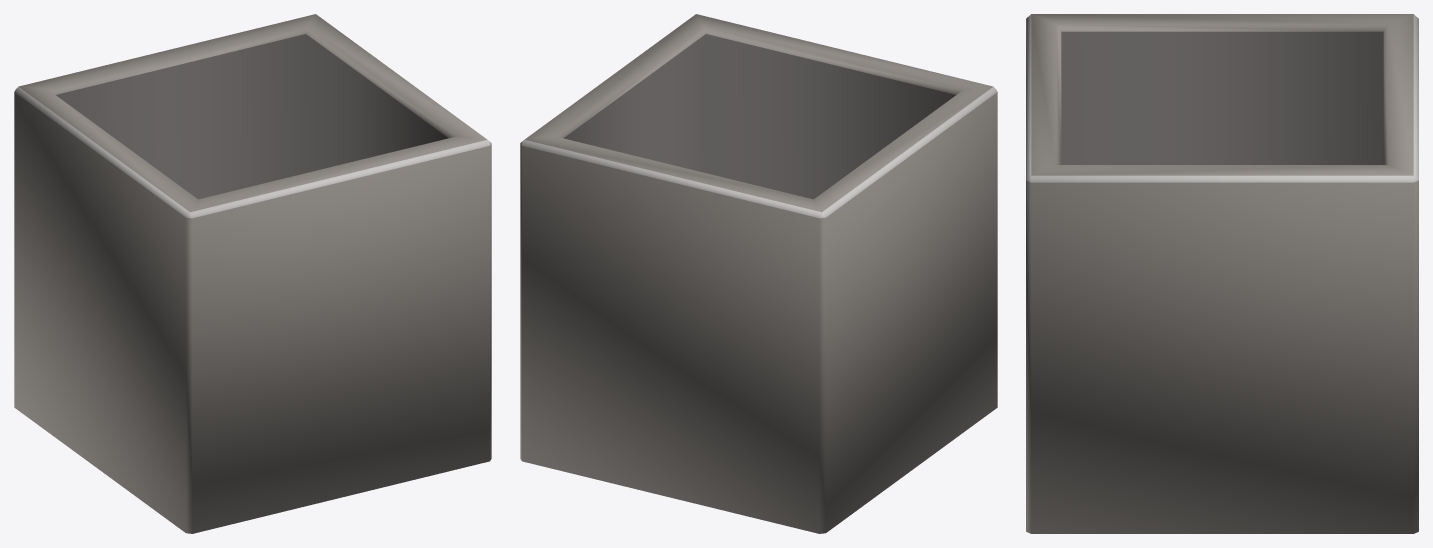
Rendered from Pot_02.glb.
3 views of the same model, side by side, from view 1: azimuth 30°, elevation 25°; view 2: azimuth 150°, elevation 25°; view 3: azimuth 270°, elevation 25° (orthographic). The views are drawn at different scales.
Parts seen in each view (by area): view 1: Pot_02; view 2: Pot_02; view 3: Pot_02.
Boxes of the visible parts, left/top/right/bottom form: Pot_02: left=14, top=14, right=491, bottom=533; Pot_02: left=520, top=14, right=997, bottom=533; Pot_02: left=1026, top=14, right=1418, bottom=533.
Size of what is drawn, in the model's own units: 0.5144 by 0.5144 by 0.5144.
Materials: 1 (1 with a texture image).
